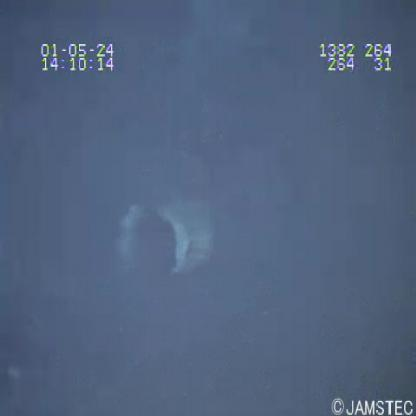Rác: (112, 190, 217, 292)
